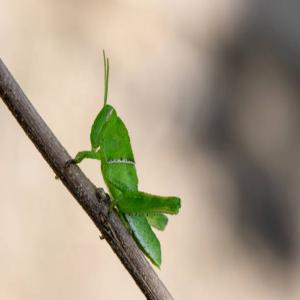locust: (79, 75, 184, 262)
